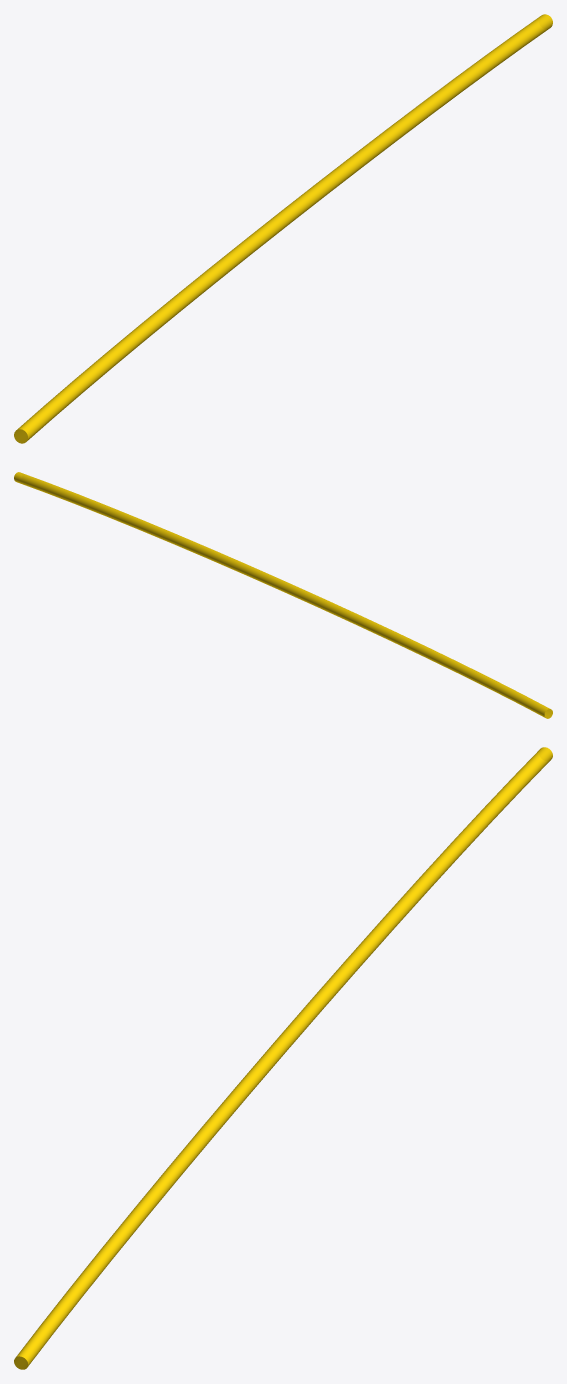
File: Event_421556567_track_11.fbx
3 views of the same model, one above another, from view 1: azimuth 90°, elevation 25°; view 2: azimuth 150°, elevation 25°; view 3: azimuth 270°, elevation 25° (orthographic). The views are drawn at different scales.
Visible parts, largest first — view 1: Model; view 2: Model; view 3: Model.
Boxes of the visible parts, x1=… form: Model: x1=14, y1=14, x2=552, y2=443; Model: x1=14, y1=472, x2=552, y2=718; Model: x1=14, y1=747, x2=552, y2=1369.
Size of the model in its own units: 3.14 by 0.3166 by 1.39.
